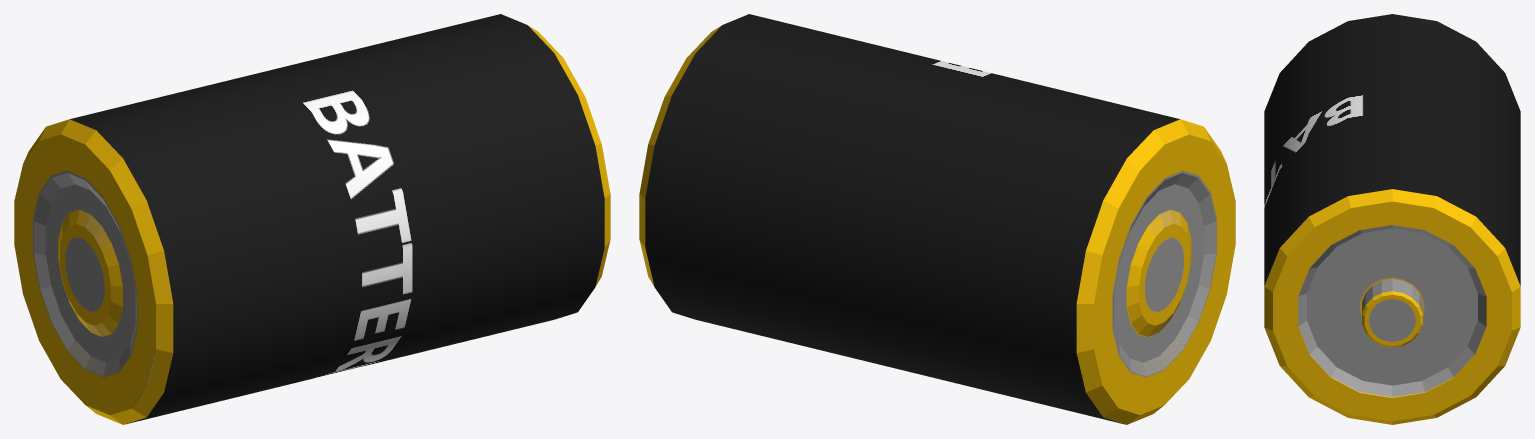
File: battery.FBX
The picture shows the model from 3 angles, left to right: view 1: azimuth 30°, elevation 25°; view 2: azimuth 150°, elevation 25°; view 3: azimuth 270°, elevation 25°; orthographic projection. The views are drawn at different scales.
Visible parts, largest first — view 1: Cylinder001; view 2: Cylinder001; view 3: Cylinder001.
Part boxes in pixels (left/top/right/bottom): Cylinder001: left=14, top=14, right=610, bottom=424; Cylinder001: left=639, top=14, right=1235, bottom=424; Cylinder001: left=1264, top=14, right=1520, bottom=424.
Bounding box in the file's own units: 86 × 49.03 × 48.29.
